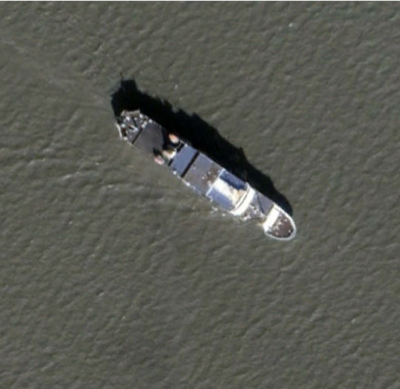boat: (115, 108, 298, 242)
